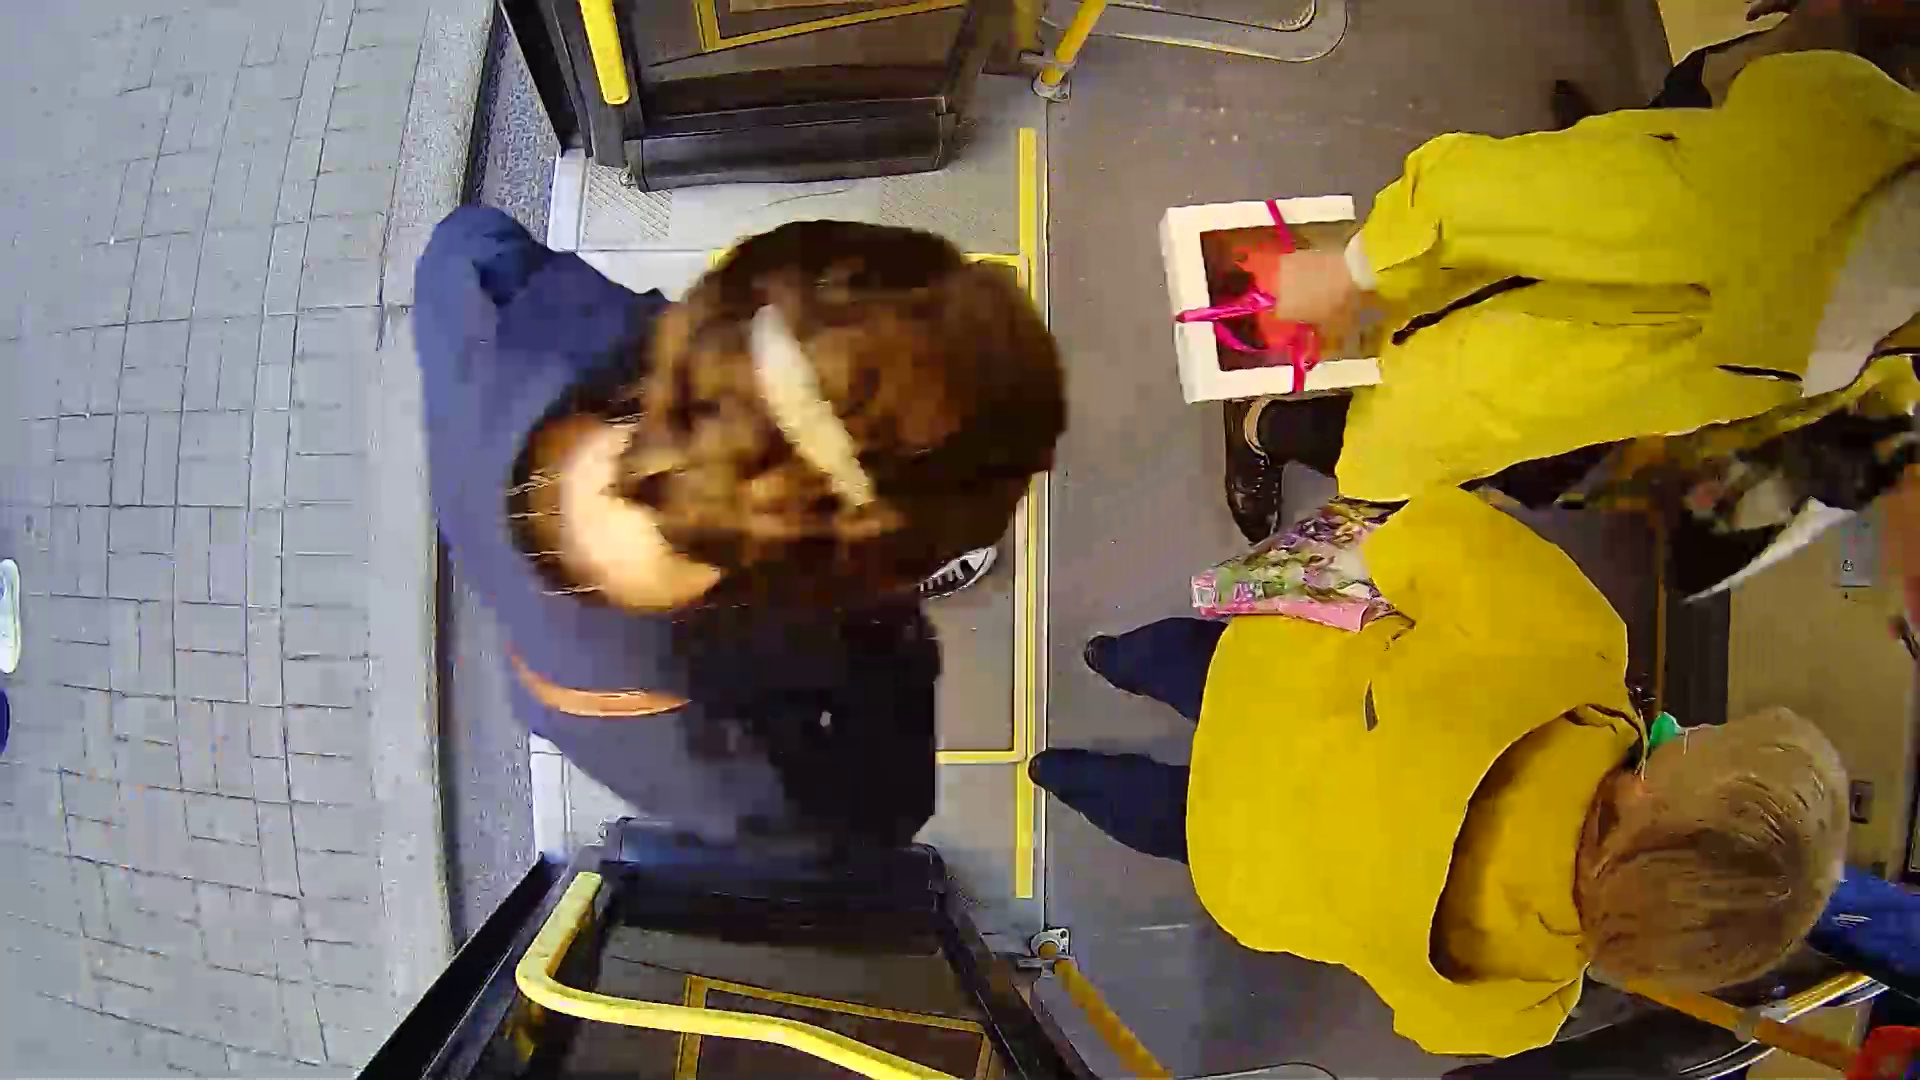person: (1069, 449, 1848, 976), (406, 217, 1109, 792)
